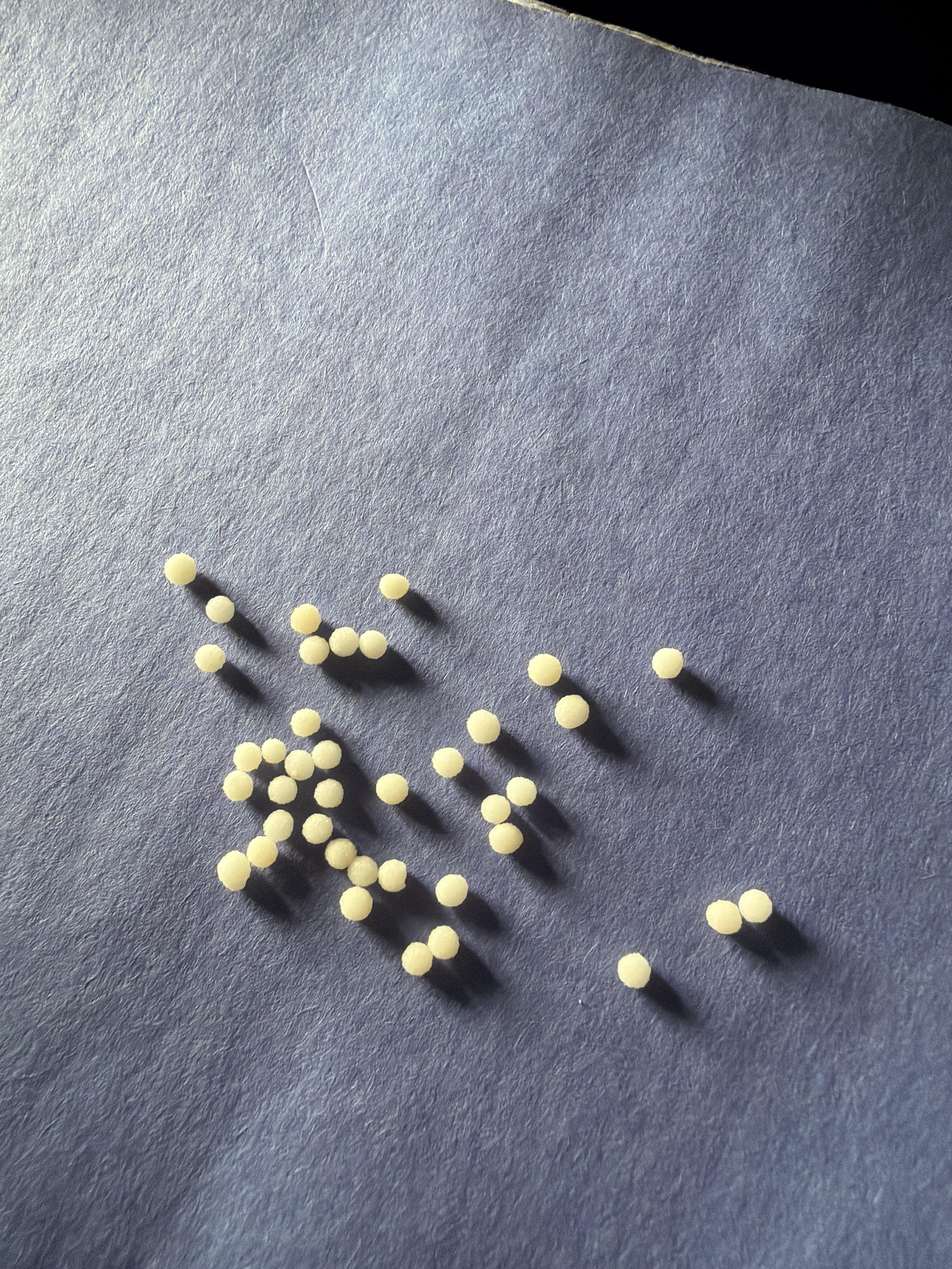pill: (217, 850, 250, 891), (706, 900, 742, 935), (554, 694, 590, 729), (617, 952, 651, 989), (738, 889, 773, 923), (427, 925, 460, 960), (467, 709, 500, 744), (340, 885, 372, 921), (528, 653, 562, 686), (488, 822, 523, 854), (401, 942, 433, 976), (246, 835, 278, 868), (164, 553, 197, 585), (325, 838, 357, 871), (376, 773, 409, 805), (435, 875, 468, 907), (222, 770, 253, 802), (347, 855, 378, 887), (432, 747, 464, 778), (302, 813, 333, 844), (480, 794, 511, 825), (290, 604, 321, 635), (652, 648, 683, 679), (377, 860, 407, 892), (263, 810, 293, 842), (311, 740, 342, 770), (285, 749, 314, 781), (194, 644, 226, 673), (329, 627, 359, 657), (506, 777, 537, 806), (233, 742, 262, 772), (290, 708, 320, 737), (299, 635, 329, 664), (205, 595, 235, 624), (268, 776, 297, 805), (314, 779, 343, 808), (359, 630, 388, 659), (379, 573, 409, 600), (261, 738, 286, 765)
